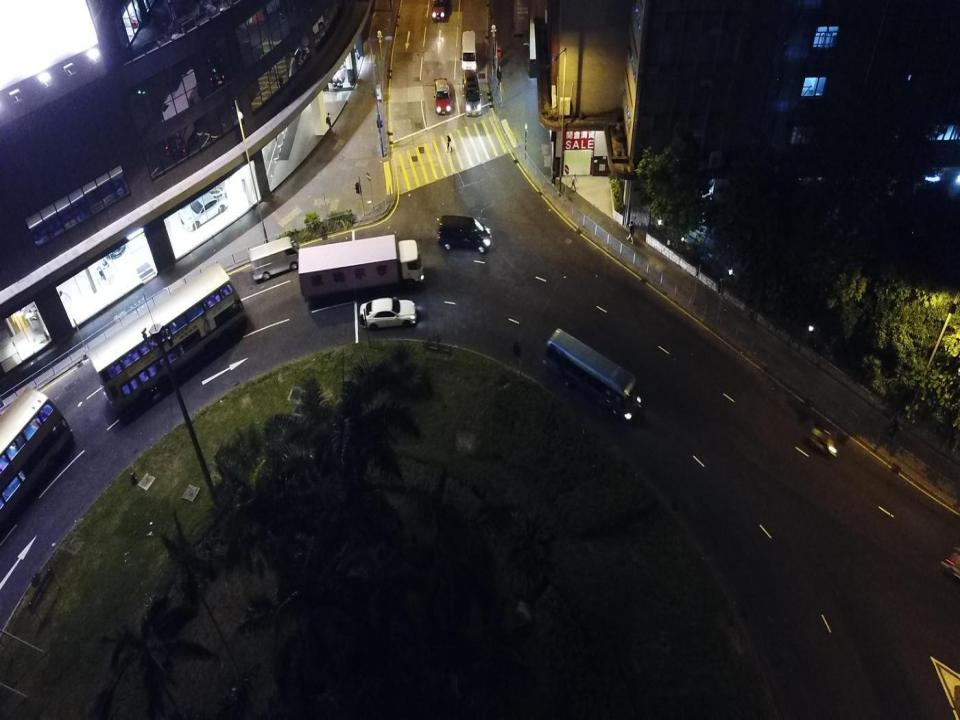bus: (86, 262, 246, 418), (0, 388, 71, 543), (546, 326, 640, 421)
car: (182, 187, 228, 232), (360, 295, 417, 328), (99, 211, 126, 258), (434, 78, 452, 116), (432, 0, 446, 20)
truck: (298, 236, 424, 307)
van: (248, 237, 301, 283), (436, 215, 492, 252), (462, 69, 481, 117), (462, 31, 476, 72)
